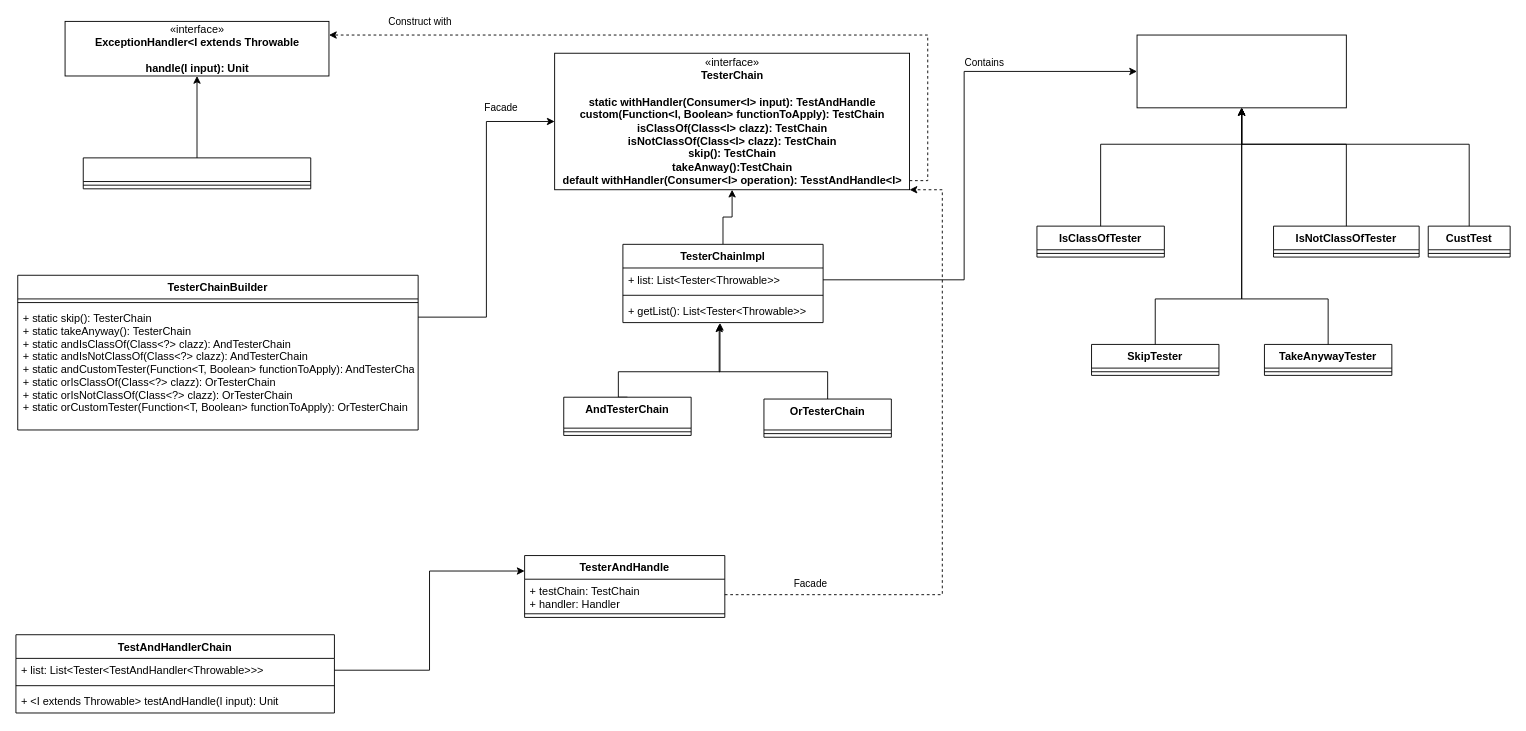
The diagram is 1526 pixels wide and 731 high, and some of its shapes have lost their labels. Here are the shapes that lost their labels. From the top down, the centre of each, then its label:
the point at 1241,71: «interface» Tester test(I input): Boolean
the point at 196,173: SimpleExceptionHandler
